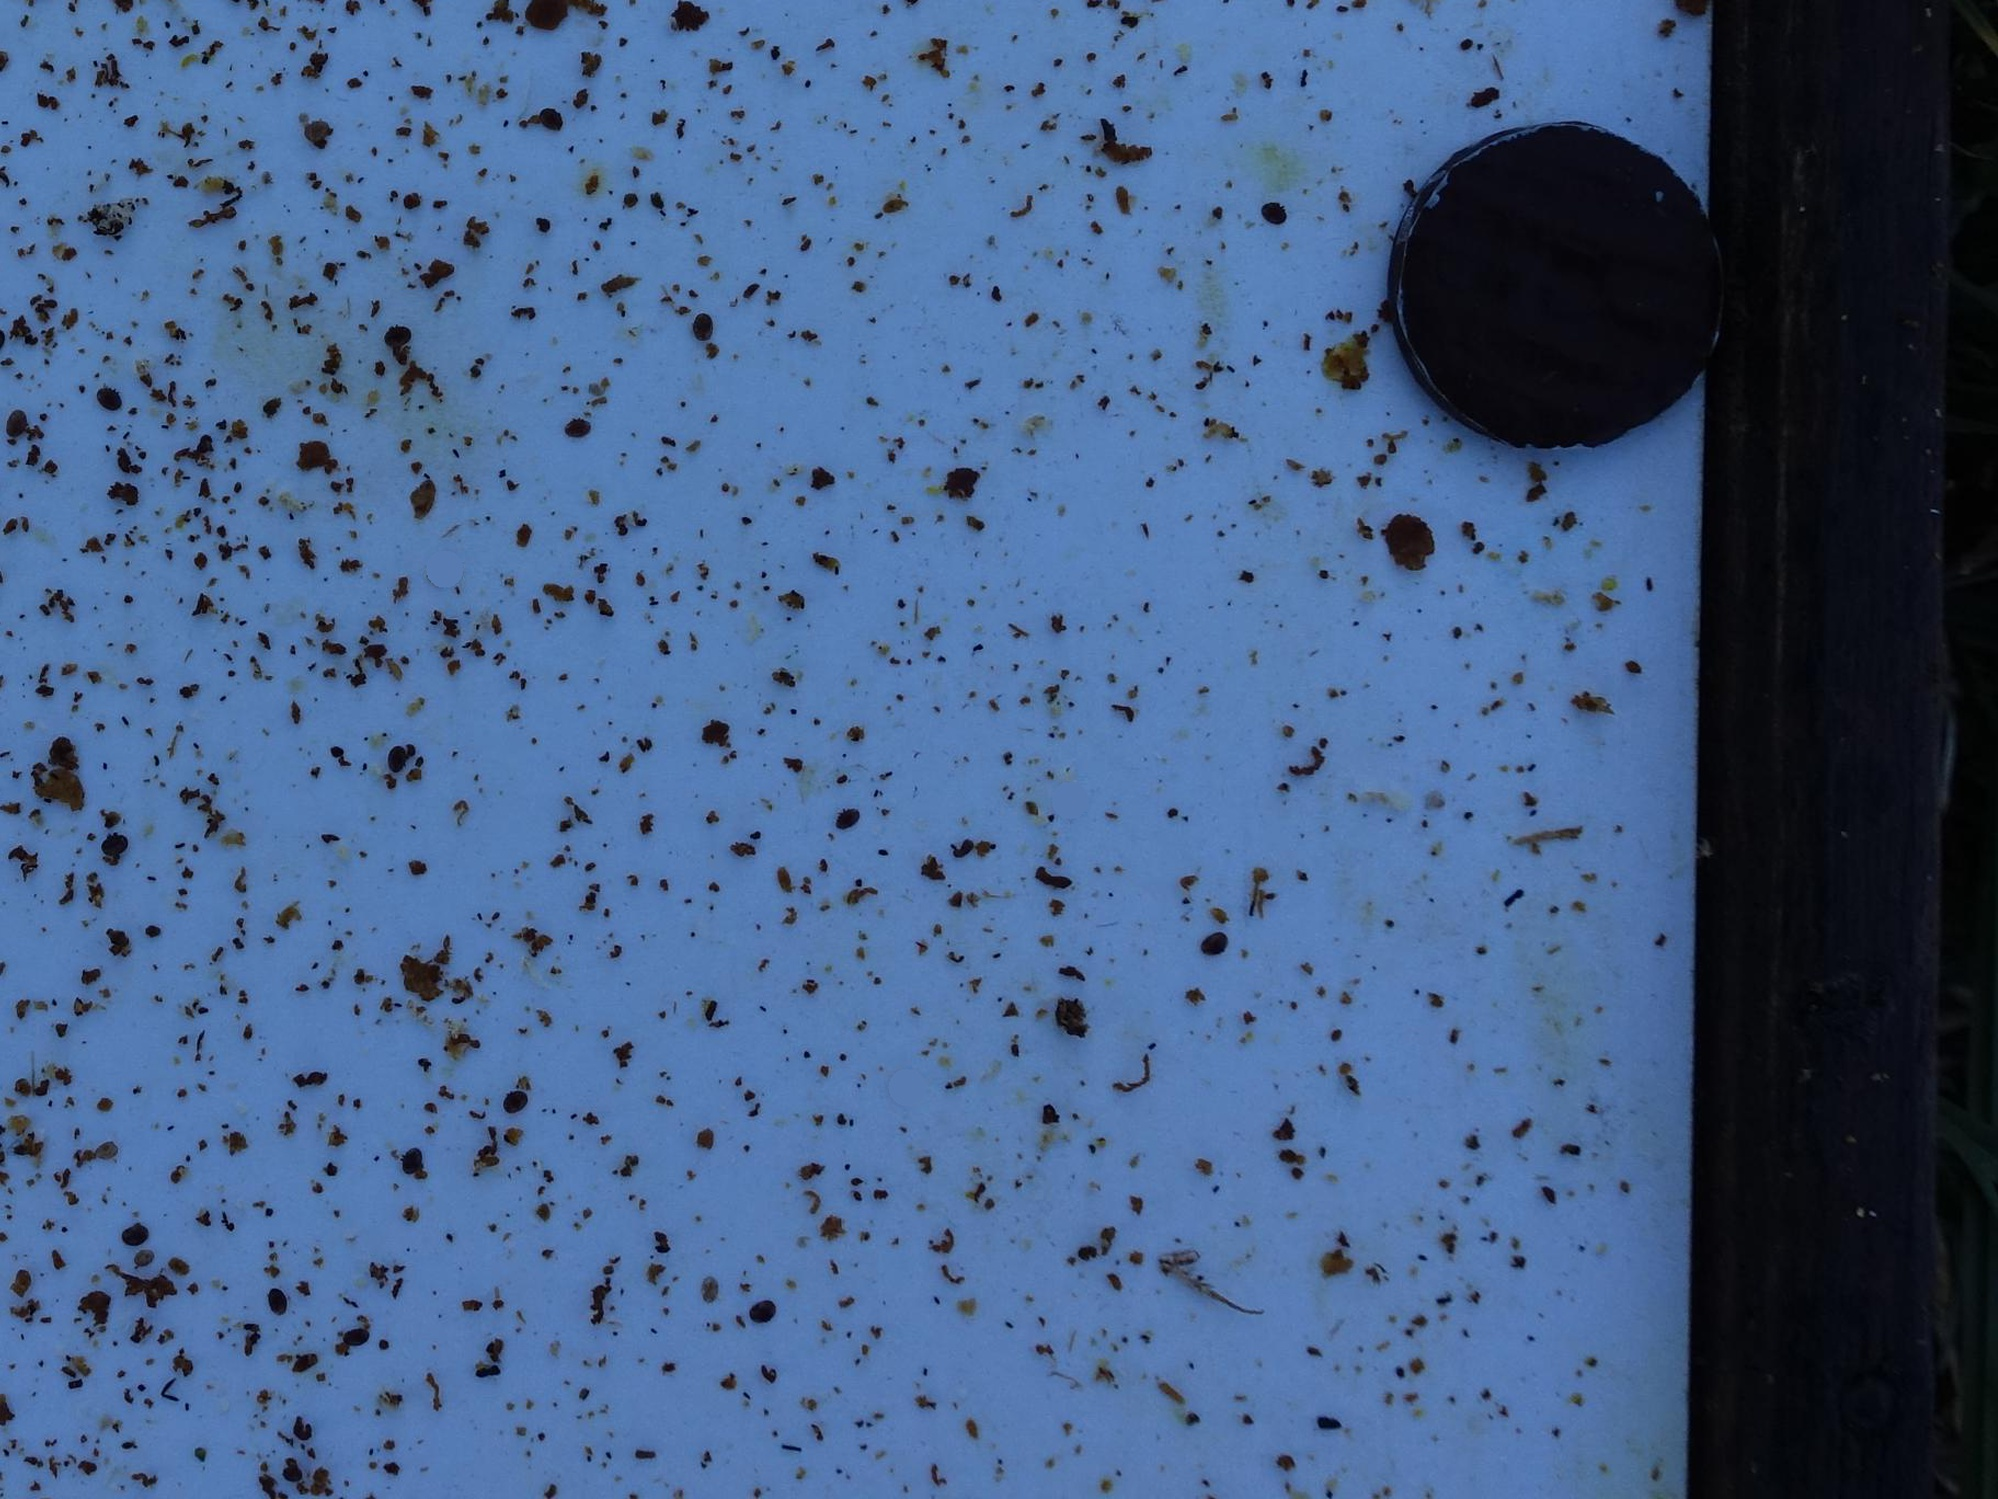Varroa: (296, 109, 337, 150), (120, 1223, 154, 1257), (381, 742, 413, 775), (261, 1285, 291, 1319), (1263, 192, 1294, 224), (498, 1079, 527, 1112), (691, 312, 721, 345), (749, 1296, 779, 1327), (534, 105, 564, 137), (91, 386, 121, 417), (390, 321, 420, 353), (836, 801, 866, 831), (561, 414, 590, 444), (1206, 932, 1234, 964), (96, 831, 124, 861), (401, 1146, 428, 1178), (339, 1326, 365, 1353)
